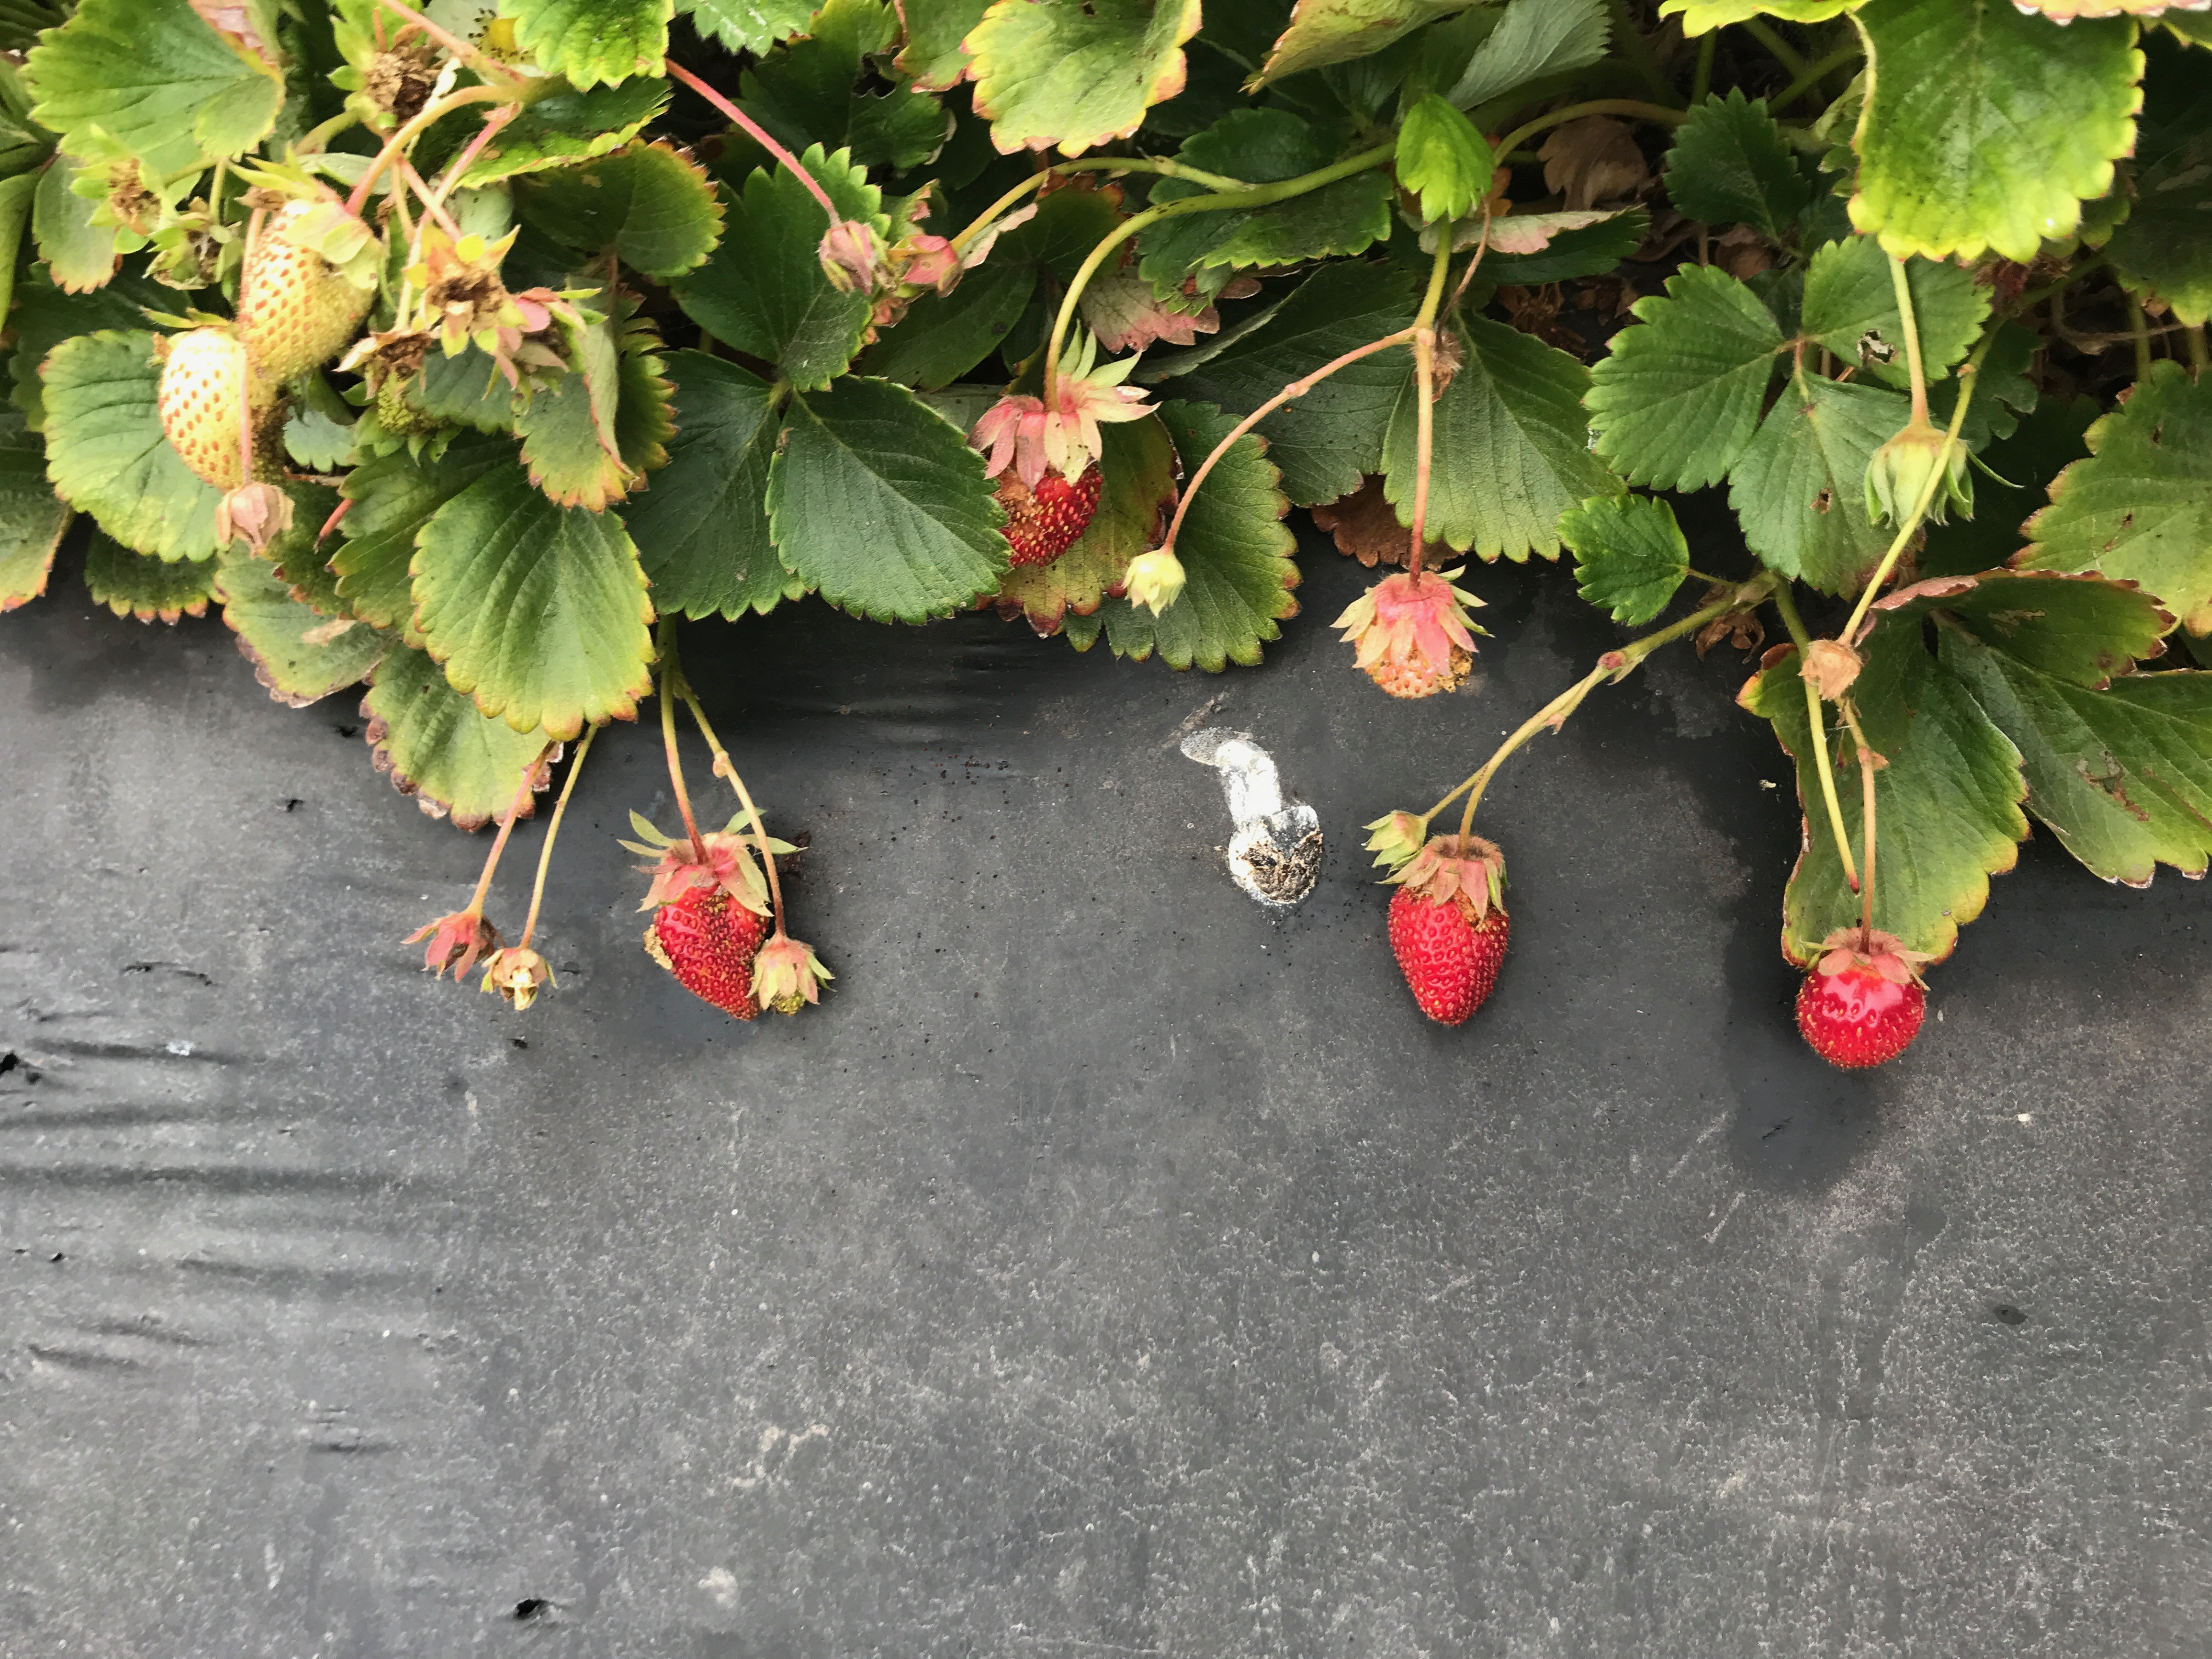ripe_strawberry: (1378, 833, 1521, 1039), (644, 842, 779, 1028), (972, 418, 1109, 575), (1791, 925, 1933, 1072)
unripe_strawberry: (239, 185, 392, 389), (153, 321, 273, 498), (1338, 565, 1480, 709), (371, 357, 451, 436), (752, 932, 824, 1019)
